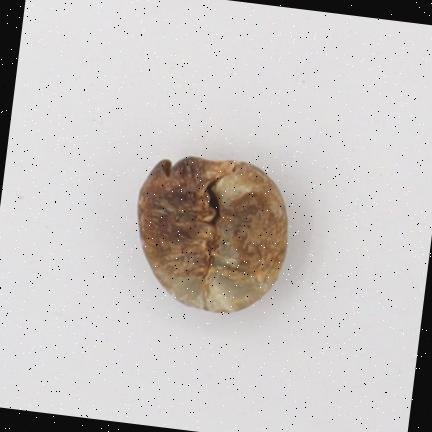partial-black: (137, 156, 286, 312)
